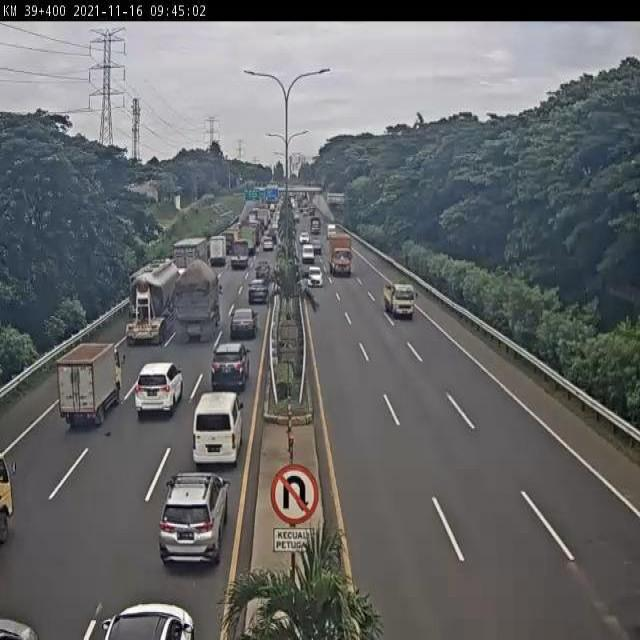car: (160, 472, 228, 565), (135, 361, 185, 415), (212, 342, 253, 394), (229, 308, 259, 343), (248, 280, 272, 307), (253, 260, 271, 285), (307, 265, 323, 288)
small bus: (192, 392, 243, 463)
small truck: (60, 343, 127, 425), (383, 280, 419, 317)
truck-l-: (172, 264, 221, 345), (171, 237, 211, 291)
truck-m-: (330, 234, 352, 278)
truck-xl-: (120, 264, 179, 353)
